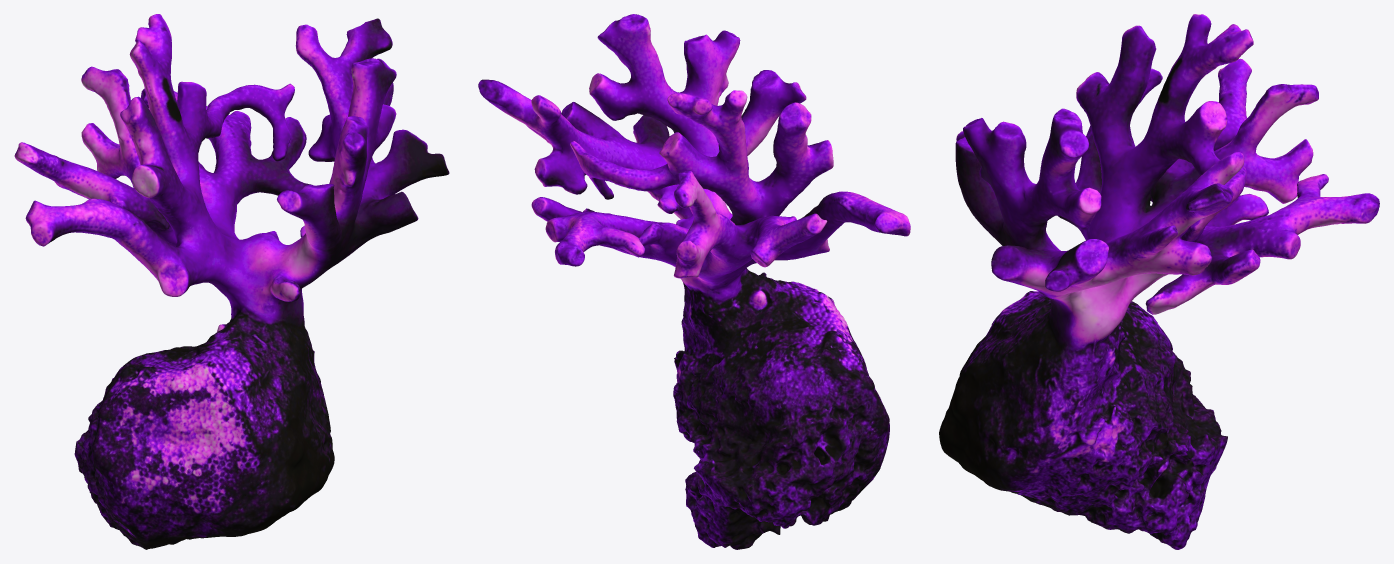
The model's file is Distichopora borealis purple.fbx.
3 renders of one model, left to right at view 1: azimuth 30°, elevation 25°; view 2: azimuth 150°, elevation 25°; view 3: azimuth 270°, elevation 25°, orthographic. The views are drawn at different scales.
Visible parts, largest first — view 1: Mesh_0; view 2: Mesh_0; view 3: Mesh_0.
Boxes of the visible parts, bbox=[...] form: Mesh_0: bbox=[14, 14, 449, 549]; Mesh_0: bbox=[478, 14, 910, 549]; Mesh_0: bbox=[939, 14, 1379, 549].
Bounding box in the file's own units: 418 × 491 × 375.
Materials: 1 (1 with a texture image).
